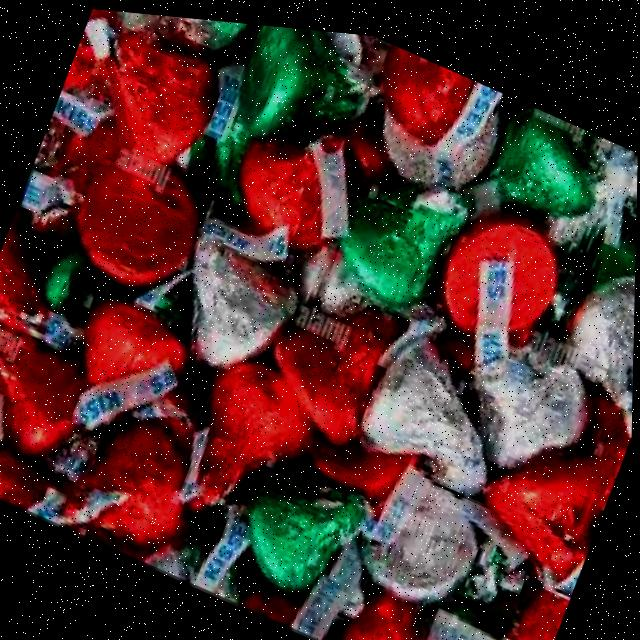kisses: (336, 428, 506, 624), (153, 202, 321, 393), (451, 299, 613, 484), (345, 307, 507, 490), (536, 233, 637, 424), (99, 8, 265, 60)
